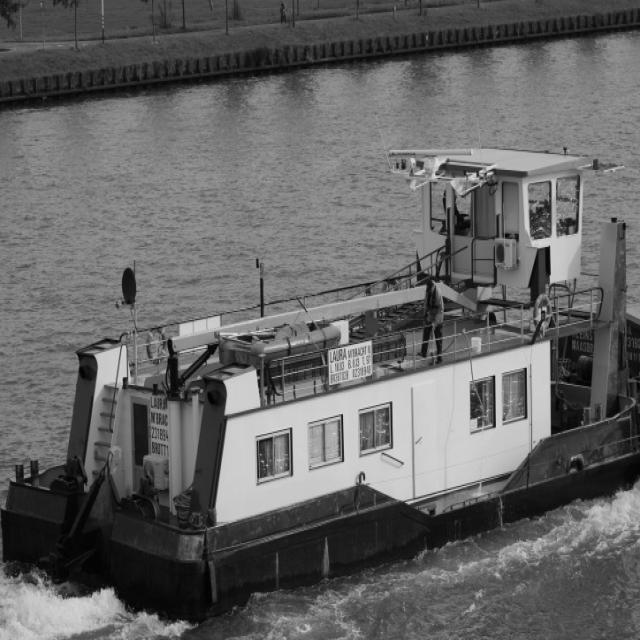tugboat: (1, 130, 640, 640)
